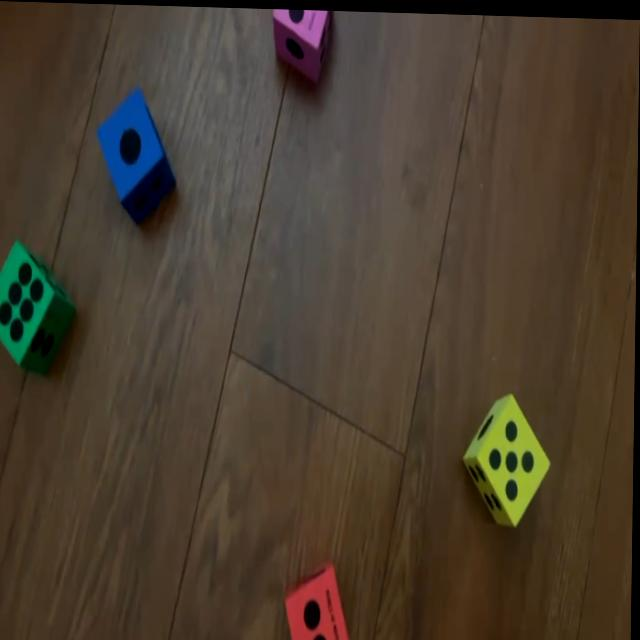cube: (95, 88, 177, 222), (0, 237, 76, 367), (288, 560, 354, 640)
